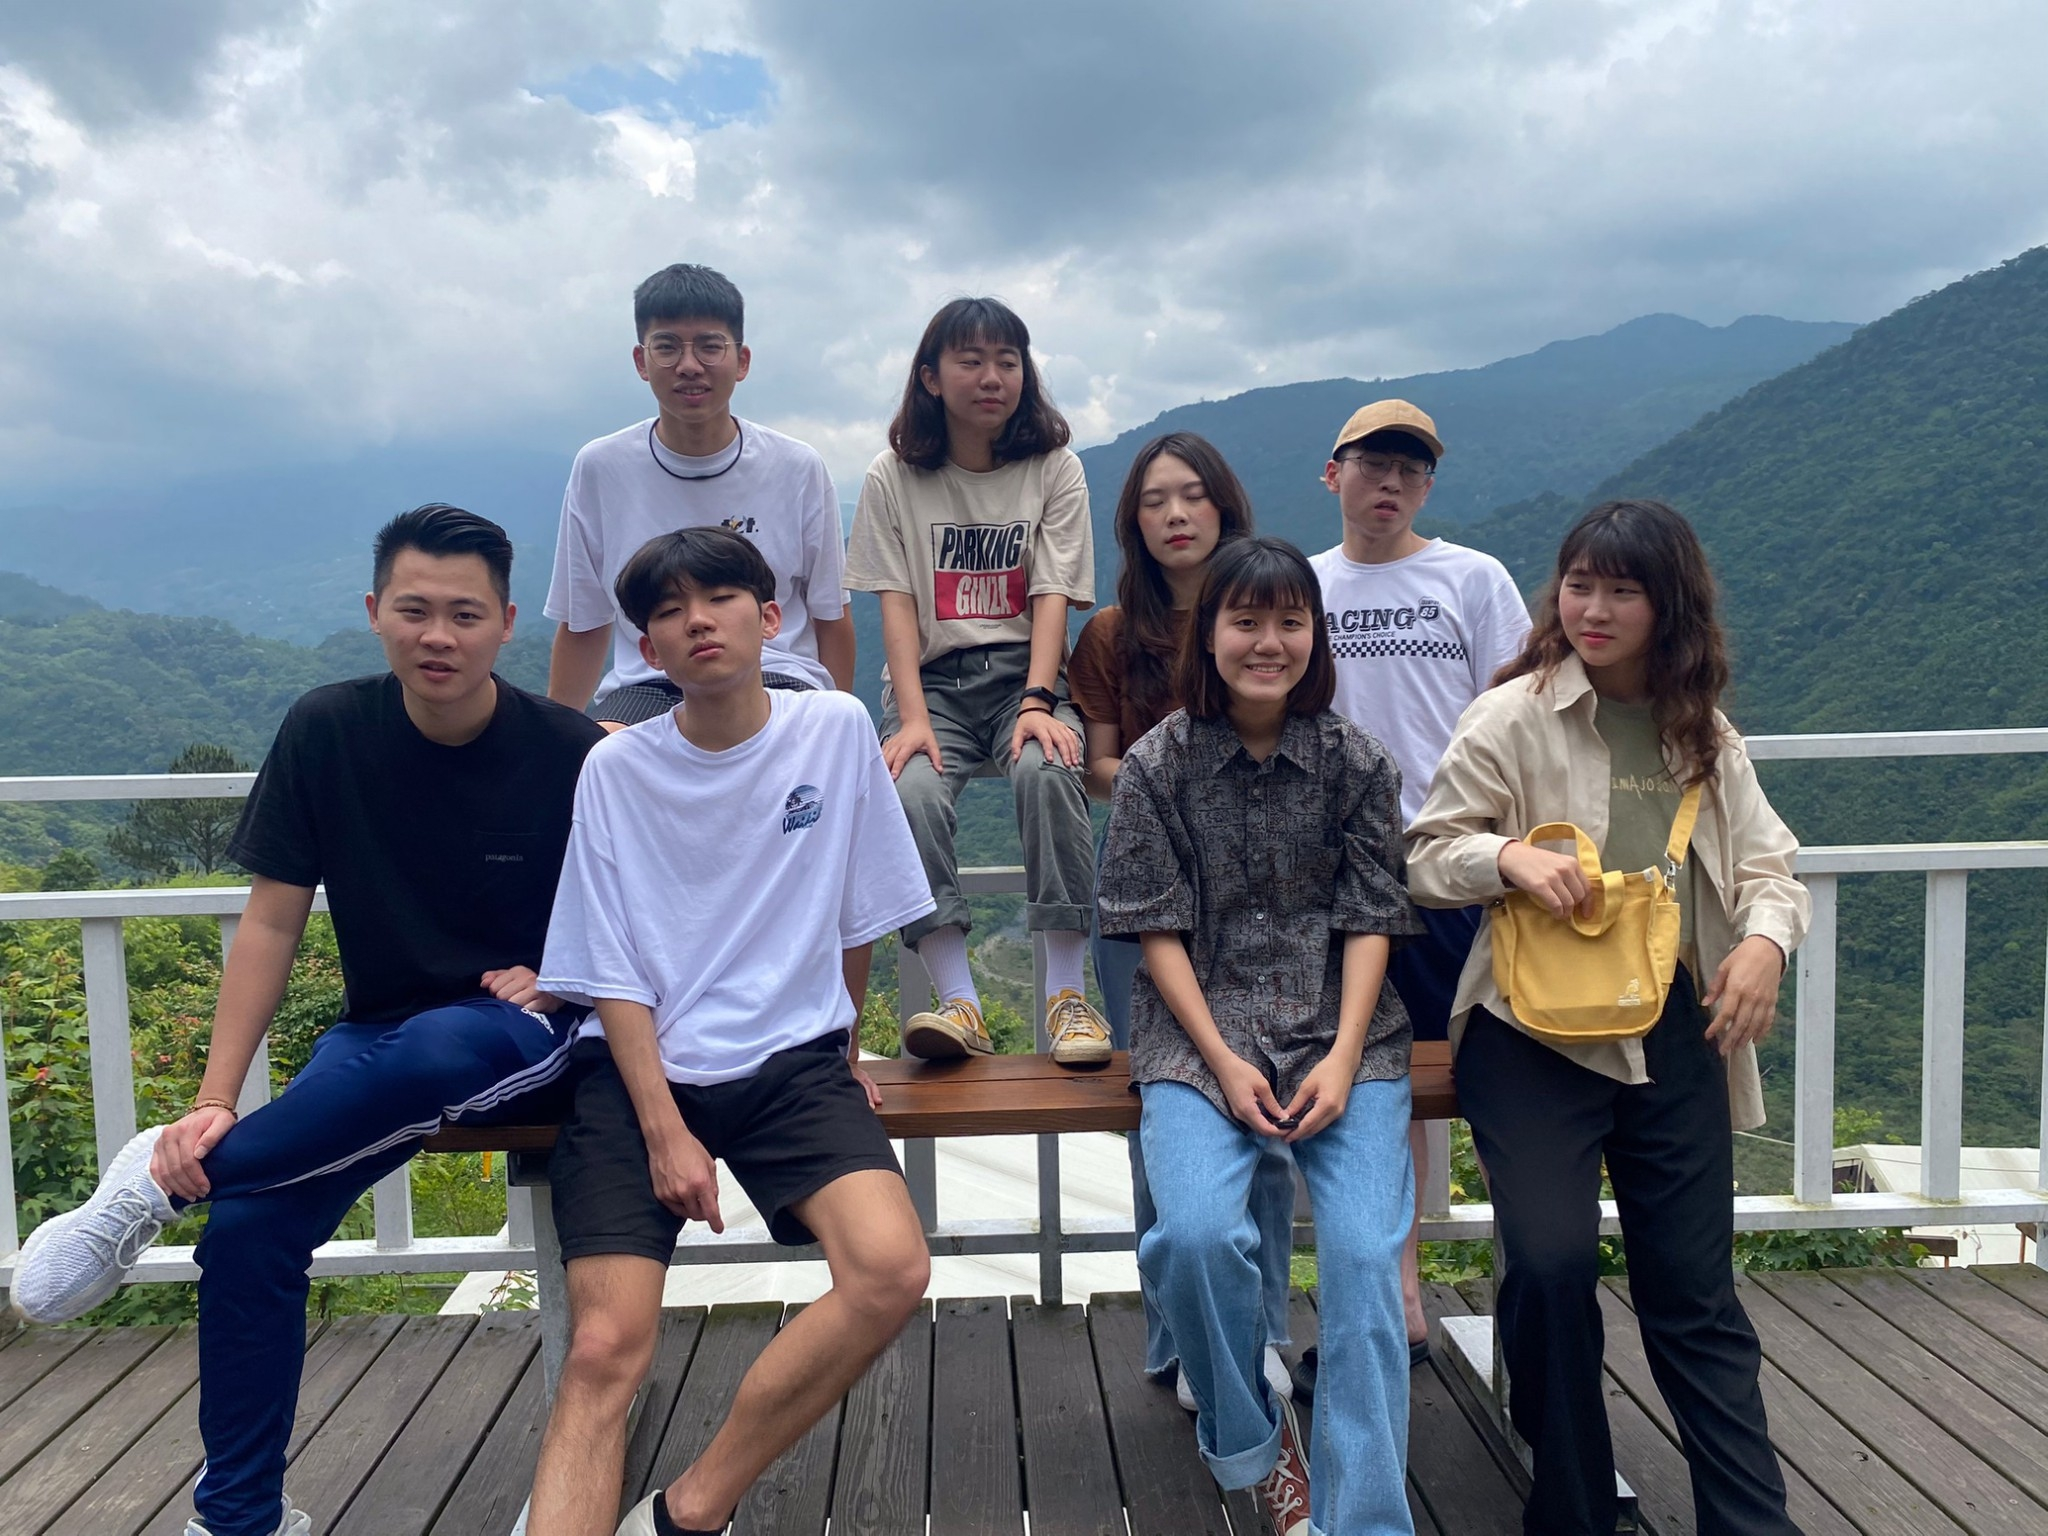people: (1502, 499, 1810, 1536), (584, 528, 893, 1536), (1175, 543, 1413, 1536), (896, 296, 1113, 1081), (610, 284, 843, 996), (1304, 399, 1552, 1022), (343, 513, 566, 1137), (1102, 443, 1296, 984)
